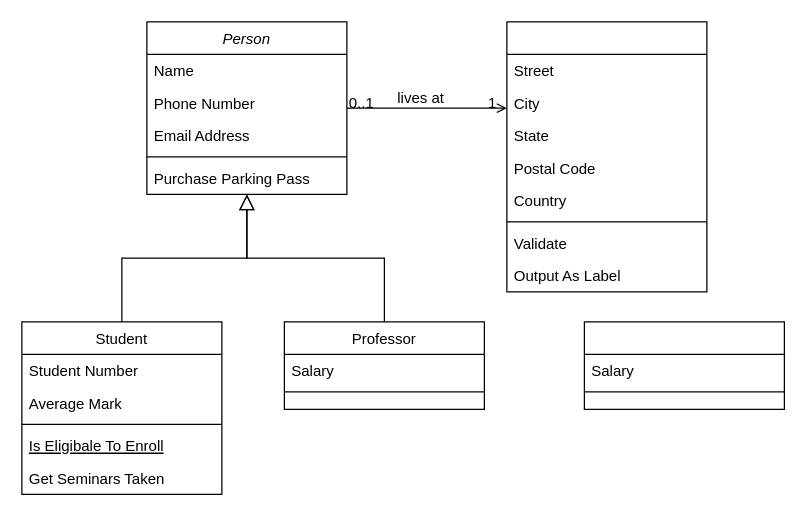
This 806x520 diagram has some shape labels left out. Each missing label, with the box of its shape:
Address: (506, 21, 707, 292)
Administrator: (583, 321, 784, 409)
